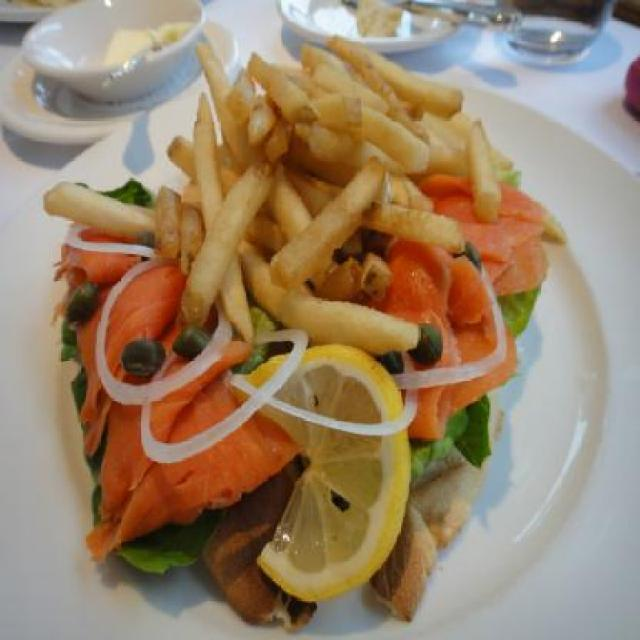Lemon: (236, 342, 412, 604)
